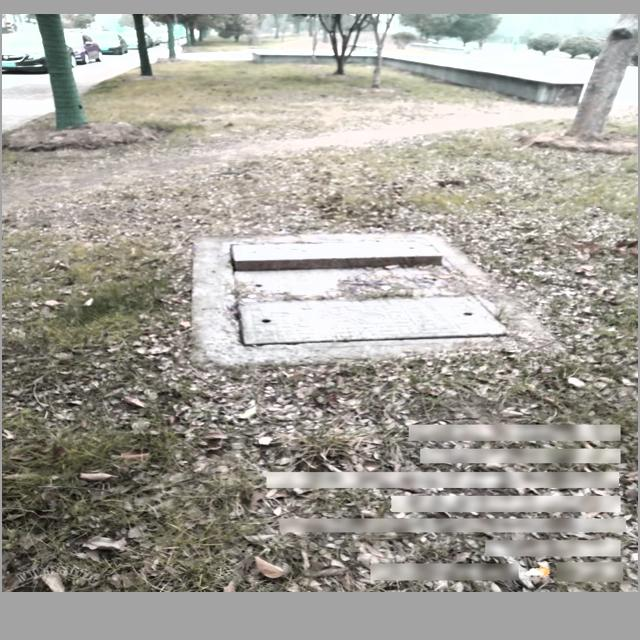uncovered: (222, 235, 514, 345)
